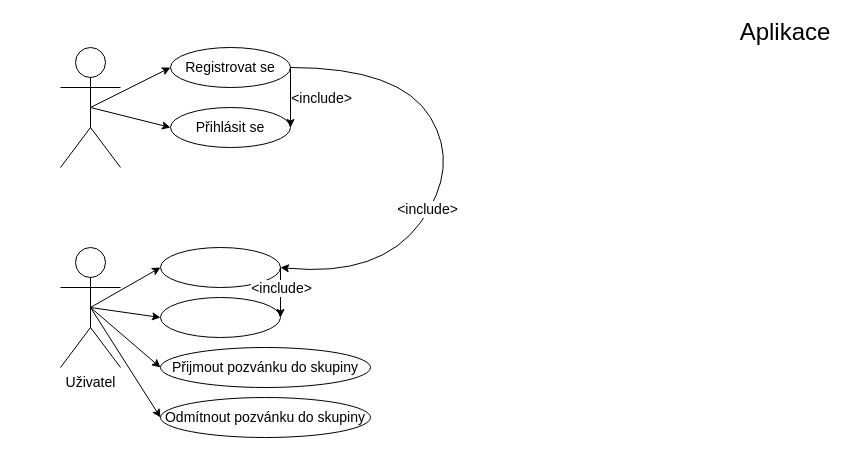
Image size: 848x455. Some labels were removed from this diagram. The box of each missing label's shape, as (x1, y1, x2, y2) in pixels:
Neregistrovaný uživatel: (60, 46, 120, 168)
Přepnout skupinu: (160, 296, 280, 338)
Vytvořit skupinu: (160, 246, 280, 288)
